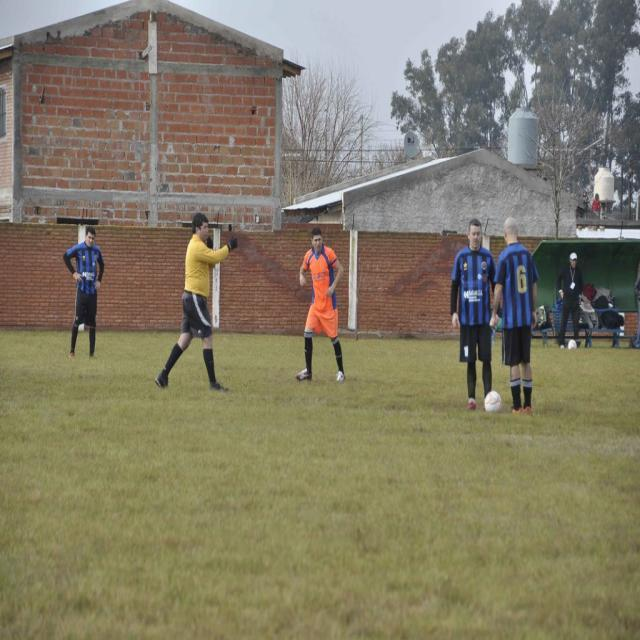football: (483, 391, 511, 418)
